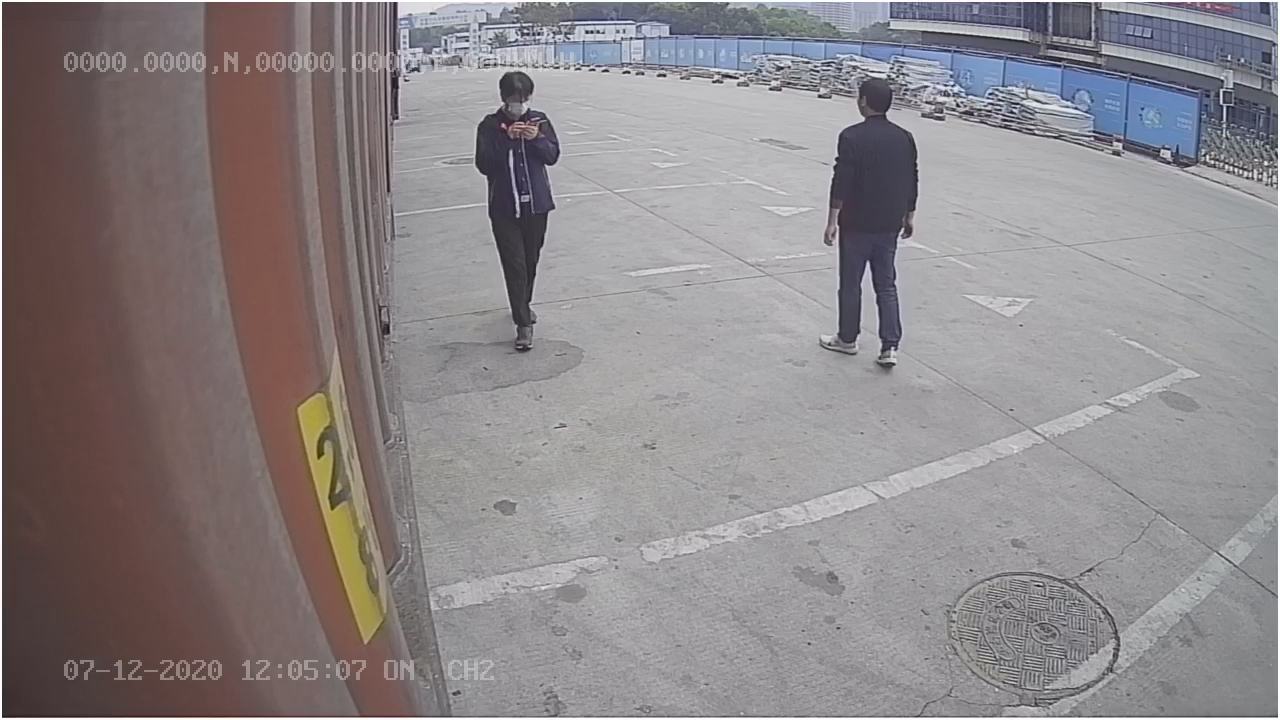person: (818, 72, 920, 369), (472, 73, 563, 351)
